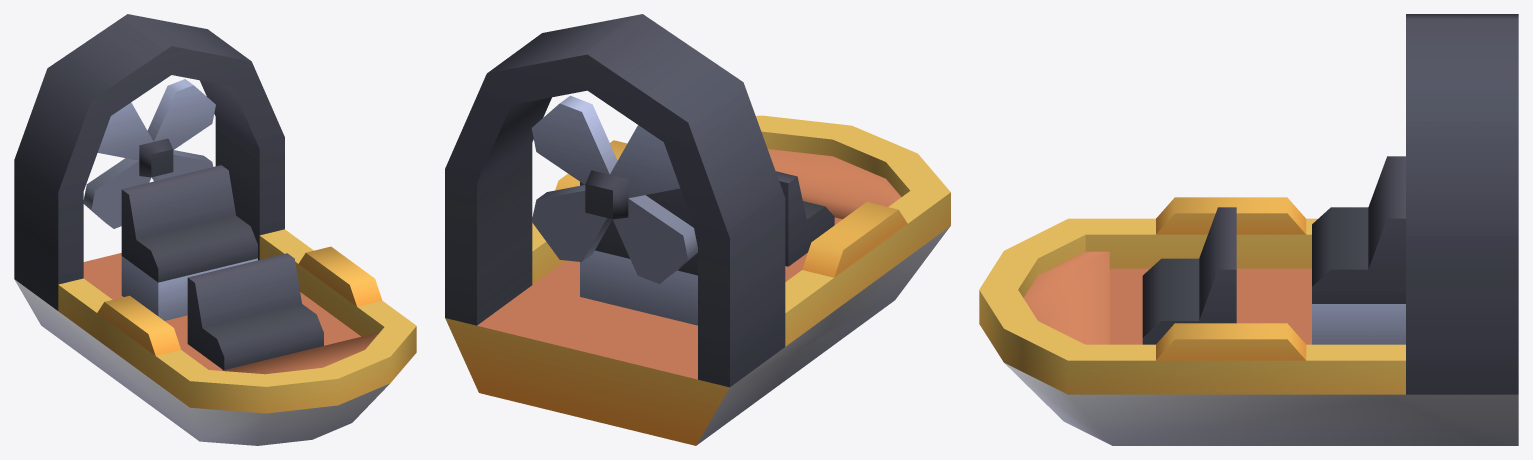
The model's file is boat-fan-transformed.glb.
The picture shows the model from 3 angles, left to right: view 1: azimuth 30°, elevation 25°; view 2: azimuth 150°, elevation 25°; view 3: azimuth 270°, elevation 25°; orthographic projection. The views are drawn at different scales.
Parts seen in each view (by area): view 1: boat-fan, fan; view 2: boat-fan, fan; view 3: boat-fan.
Part boxes in pixels (left/top/right/bottom): boat-fan: left=14, top=14, right=416, bottom=445; fan: left=83, top=79, right=215, bottom=228; boat-fan: left=445, top=14, right=950, bottom=445; fan: left=531, top=95, right=697, bottom=283; boat-fan: left=979, top=14, right=1518, bottom=445.
Size of the model in its own units: 1.78 by 2.19 by 2.87.
Materials: 1 (1 with a texture image).
